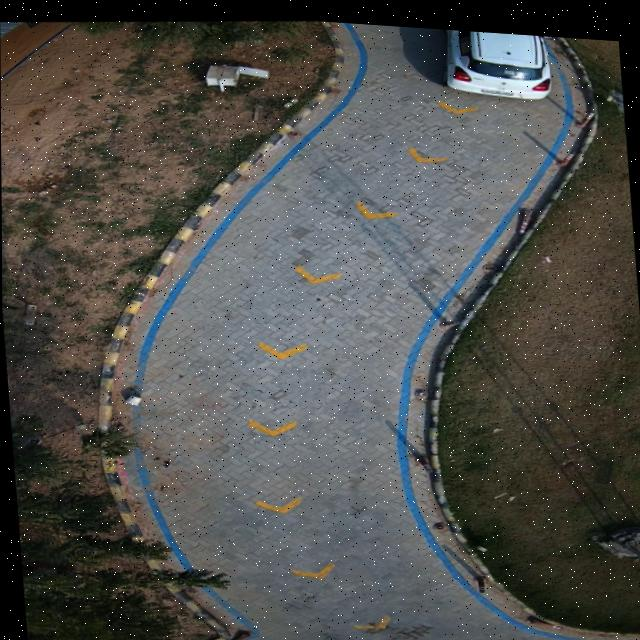car: (441, 23, 551, 91)
